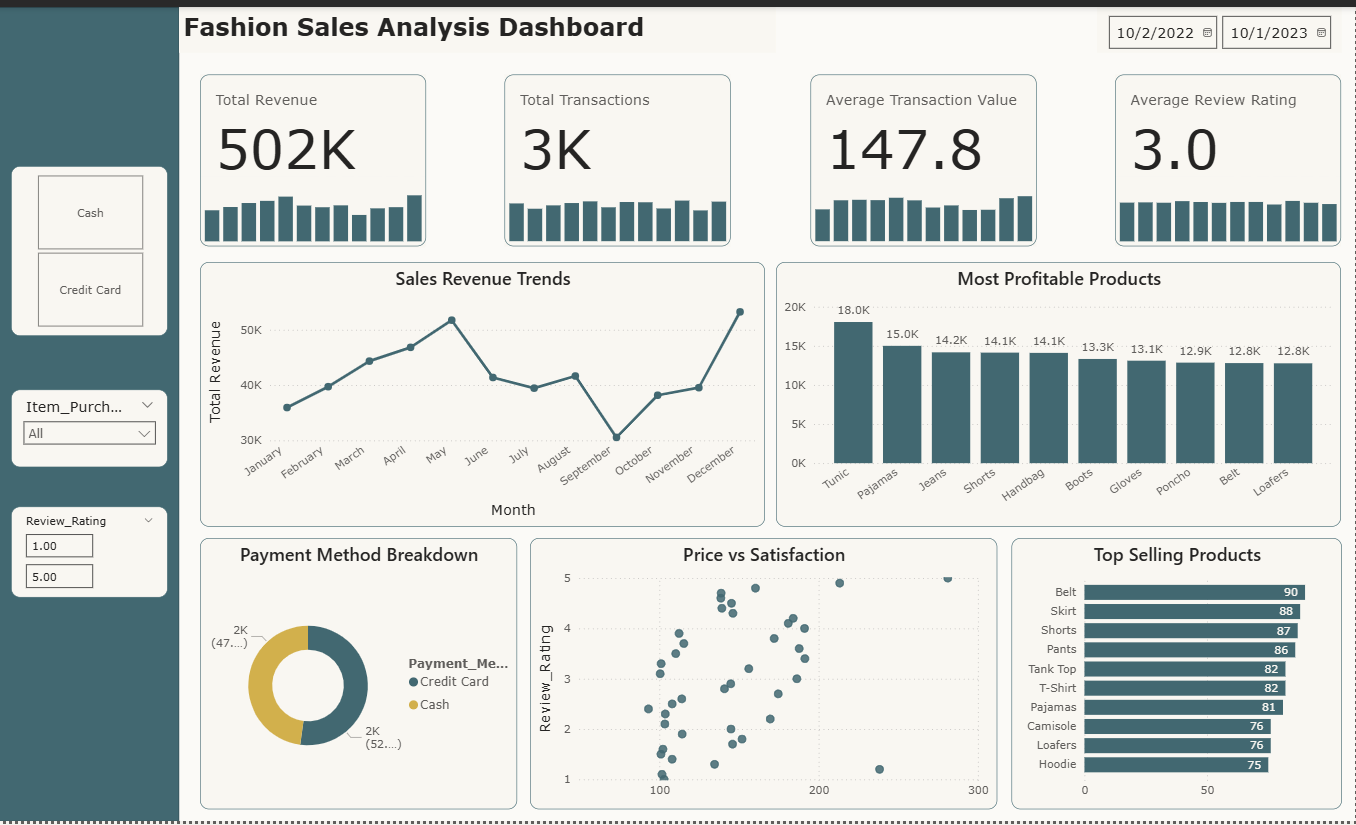

The dashboard page shown, as its layout file describes it:
{"tool":"powerbi","page":{"name":"Page 1","canvas":[1500,900],"ordinal":0},"visuals":[{"type":"shape","box":[0,0,199.5,900.6],"z":0},{"type":"cardVisual","fields":{"Data":["cleaned_fashion_retail_sales.Total Revenue"]},"box":[221.9,74.6,250,113.1],"z":1,"group":"g1"},{"type":"cardVisual","fields":{"Data":["cleaned_fashion_retail_sales.Total Transactions"]},"box":[559.4,74.6,250,112.8],"z":3,"group":"g2"},{"type":"cardVisual","fields":{"Data":["cleaned_fashion_retail_sales.Average Transaction Value"]},"box":[896.9,74.6,250,112.8],"z":4,"group":"g3"},{"type":"cardVisual","fields":{"Data":["cleaned_fashion_retail_sales.Average Review Rating"]},"box":[1234.4,74.6,250,113.1],"z":5,"group":"g4"},{"type":"columnChart","fields":{"Y":["cleaned_fashion_retail_sales.Total Revenue"],"Category":["cleaned_fashion_retail_sales.Date_Purchase.Variation.Date Hierarchy.Month"]},"box":[221.9,187.7,250,77.4],"z":6,"group":"g1"},{"type":"columnChart","fields":{"Y":["cleaned_fashion_retail_sales.Total Transactions"],"Category":["cleaned_fashion_retail_sales.Date_Purchase.Variation.Date Hierarchy.Month"]},"box":[559.4,187.4,250,77.2],"z":8,"group":"g2"},{"type":"columnChart","fields":{"Y":["cleaned_fashion_retail_sales.Average Transaction Value"],"Category":["cleaned_fashion_retail_sales.Date_Purchase.Variation.Date Hierarchy.Month"]},"box":[896.9,187.4,250,77.2],"z":10,"group":"g3"},{"type":"columnChart","fields":{"Y":["cleaned_fashion_retail_sales.Average Review Rating"],"Category":["cleaned_fashion_retail_sales.Date_Purchase.Variation.Date Hierarchy.Month"]},"box":[1234.4,187.7,250,77.4],"z":12,"group":"g4"},{"type":"group","id":"g1","title":"Group 1","box":[221.9,74.6,249.9,190],"z":1000},{"type":"group","id":"g2","title":"Group 2","box":[559.4,74.6,250,190],"z":2000},{"type":"group","id":"g3","title":"Group 3","box":[896.9,74.6,250,190],"z":3000},{"type":"group","id":"g4","title":"Group 4","box":[1234.4,74.6,249.9,190],"z":4000},{"type":"lineChart","title":"Sales Revenue Trends","fields":{"Y":["cleaned_fashion_retail_sales.Total Revenue"],"Category":["cleaned_fashion_retail_sales.Date_Purchase.Variation.Date Hierarchy.Month","cleaned_fashion_retail_sales.Date_Purchase.Variation.Date Hierarchy.Day"]},"box":[221.9,281.6,624.7,292.8],"z":5000},{"type":"donutChart","title":"Payment Method Breakdown","fields":{"Y":["cleaned_fashion_retail_sales.Total Transactions"],"Category":["cleaned_fashion_retail_sales.Payment_Method"]},"box":[221.9,587.4,350.6,300.2],"z":6000},{"type":"columnChart","title":" Most Profitable Products","fields":{"Category":["cleaned_fashion_retail_sales.Item_Purchased"],"Y":["cleaned_fashion_retail_sales.Total Revenue"]},"box":[859.6,281.6,624.7,292.8],"z":7000},{"type":"textbox","box":[199.5,0,660.1,50.3],"z":8000},{"type":"slicer","fields":{"Values":["cleaned_fashion_retail_sales.Date_Purchase"]},"box":[1213.9,0,270.4,50.3],"z":9000},{"type":"slicer","fields":{"Values":["cleaned_fashion_retail_sales.Payment_Method"]},"box":[13.1,175.3,173.4,188.3],"z":10000},{"type":"slicer","fields":{"Values":["cleaned_fashion_retail_sales.Item_Purchased"]},"box":[13.1,423.3,173.4,85.8],"z":11000},{"type":"slicer","fields":{"Values":["cleaned_fashion_retail_sales.Review_Rating"]},"box":[13.1,551.9,173.4,100.7],"z":12000},{"type":"shape","box":[221.9,74.6,249.9,190.2],"z":13000},{"type":"shape","box":[559.4,74.6,249.9,190.2],"z":14000},{"type":"shape","box":[896.9,74.6,249.9,190.2],"z":15000},{"type":"shape","box":[1234.4,74.6,249.9,190.2],"z":16000},{"type":"scatterChart","title":"Price vs Satisfaction","fields":{"X":["Avg(cleaned_fashion_retail_sales.Purchase_Amount_(USD))"],"Y":["cleaned_fashion_retail_sales.Review_Rating"]},"box":[587.4,587.4,516.5,300.2],"z":17000},{"type":"barChart","title":"Top Selling Products","fields":{"Category":["cleaned_fashion_retail_sales.Item_Purchased"],"Y":["cleaned_fashion_retail_sales.Total Transactions"]},"box":[1118.8,587.4,365.5,300.2],"z":18000}]}

Visuals, with their boxes on the page's 1500x900 design canvas (x1, y1, x2, y2). These are canvas units, not pixel positions in the 1356x825 screenshot, which may show the page scaled, cropped or inside an application window:
shape: [0, 0, 200, 901]
cardVisual - cleaned_fashion_retail_sales.Total Revenue: [222, 75, 472, 188]
cardVisual - cleaned_fashion_retail_sales.Total Transactions: [559, 75, 809, 187]
cardVisual - cleaned_fashion_retail_sales.Average Transaction Value: [897, 75, 1147, 187]
cardVisual - cleaned_fashion_retail_sales.Average Review Rating: [1234, 75, 1484, 188]
columnChart - cleaned_fashion_retail_sales.Total Revenue x cleaned_fashion_retail_sales.Date_Purchase.Variation.Date Hierarchy.Month: [222, 188, 472, 265]
columnChart - cleaned_fashion_retail_sales.Total Transactions x cleaned_fashion_retail_sales.Date_Purchase.Variation.Date Hierarchy.Month: [559, 187, 809, 265]
columnChart - cleaned_fashion_retail_sales.Average Transaction Value x cleaned_fashion_retail_sales.Date_Purchase.Variation.Date Hierarchy.Month: [897, 187, 1147, 265]
columnChart - cleaned_fashion_retail_sales.Average Review Rating x cleaned_fashion_retail_sales.Date_Purchase.Variation.Date Hierarchy.Month: [1234, 188, 1484, 265]
"Group 1" group: [222, 75, 472, 265]
"Group 2" group: [559, 75, 809, 265]
"Group 3" group: [897, 75, 1147, 265]
"Group 4" group: [1234, 75, 1484, 265]
"Sales Revenue Trends" lineChart: [222, 282, 847, 574]
"Payment Method Breakdown" donutChart: [222, 587, 572, 888]
" Most Profitable Products" columnChart: [860, 282, 1484, 574]
textbox: [200, 0, 860, 50]
slicer - cleaned_fashion_retail_sales.Date_Purchase: [1214, 0, 1484, 50]
slicer - cleaned_fashion_retail_sales.Payment_Method: [13, 175, 186, 364]
slicer - cleaned_fashion_retail_sales.Item_Purchased: [13, 423, 186, 509]
slicer - cleaned_fashion_retail_sales.Review_Rating: [13, 552, 186, 653]
shape: [222, 75, 472, 265]
shape: [559, 75, 809, 265]
shape: [897, 75, 1147, 265]
shape: [1234, 75, 1484, 265]
"Price vs Satisfaction" scatterChart: [587, 587, 1104, 888]
"Top Selling Products" barChart: [1119, 587, 1484, 888]
